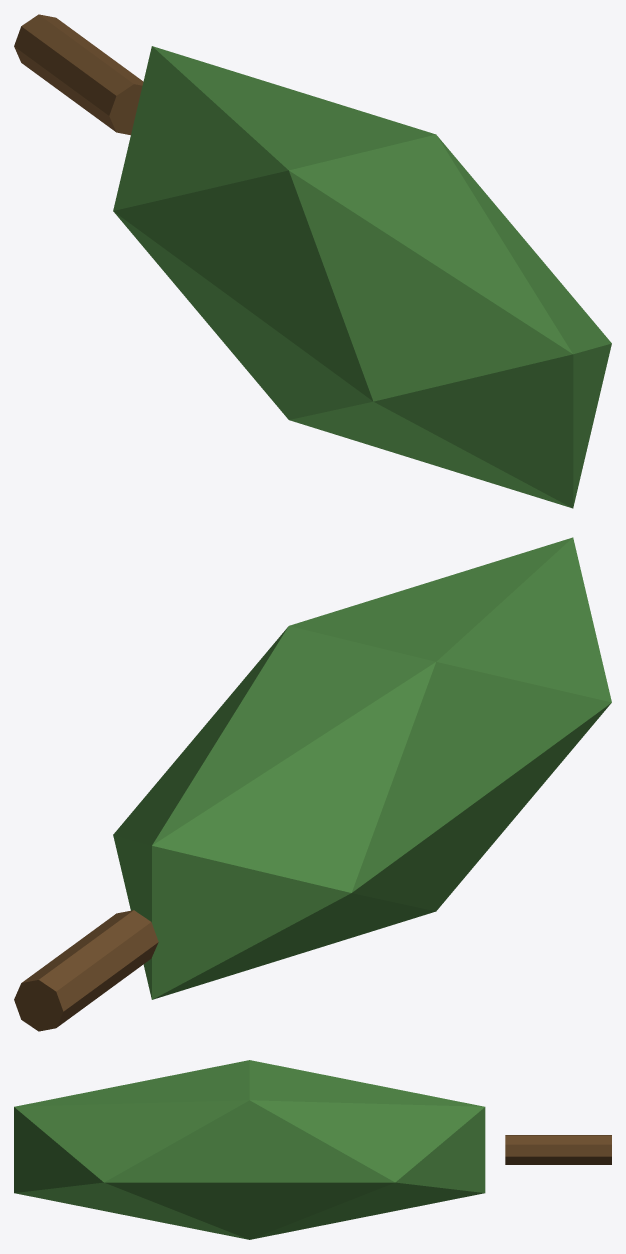
The model's file is tree_poplar.obj.
The picture shows the model from 3 angles, top to bottom: view 1: azimuth 30°, elevation 25°; view 2: azimuth 150°, elevation 25°; view 3: azimuth 270°, elevation 25°; orthographic projection. The views are drawn at different scales.
Visible parts, largest first — view 1: tree_poplar_crown, tree_poplar_trunk; view 2: tree_poplar_crown, tree_poplar_trunk; view 3: tree_poplar_crown, tree_poplar_trunk.
Part boxes in pixels (left/top/right/bottom): tree_poplar_crown: left=113, top=46, right=611, bottom=508; tree_poplar_trunk: left=14, top=14, right=143, bottom=135; tree_poplar_crown: left=113, top=537, right=611, bottom=999; tree_poplar_trunk: left=14, top=910, right=158, bottom=1031; tree_poplar_crown: left=14, top=1060, right=485, bottom=1239; tree_poplar_trunk: left=505, top=1135, right=611, bottom=1164.
Bounding box in the file's own units: 2.89 × 2.89 × 11.22.
